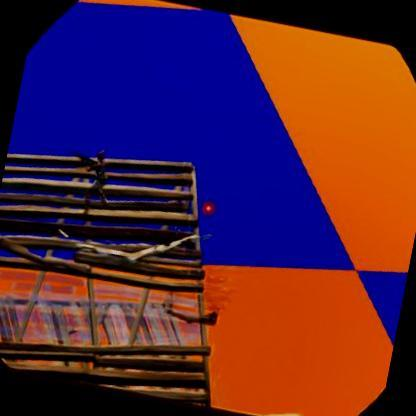person: (76, 149, 113, 204)
